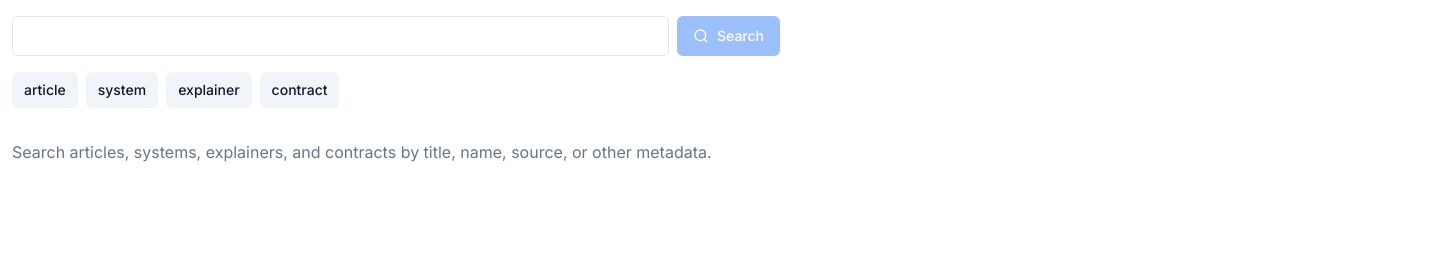
Test: federated search page states › ignores an older response after a filter starts a newer request
Type "radar" into the search field. click: (340, 36)
box: [12,16,669,56]
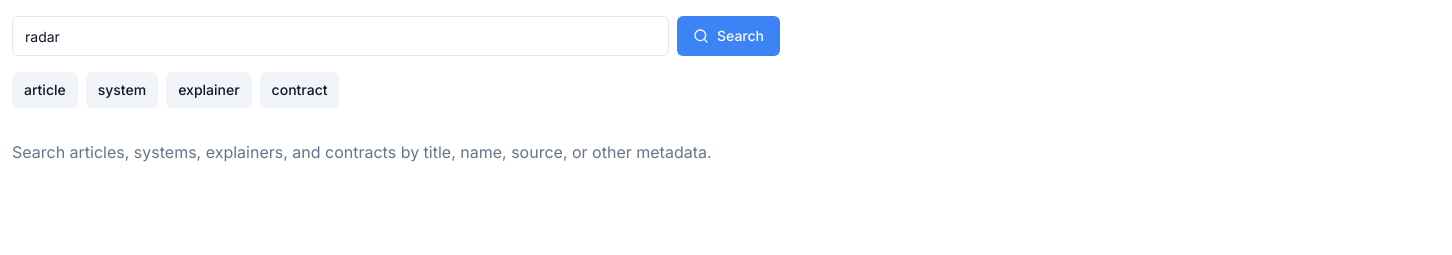
Click the button "Search". click: (728, 36)
box: [677,16,780,56]
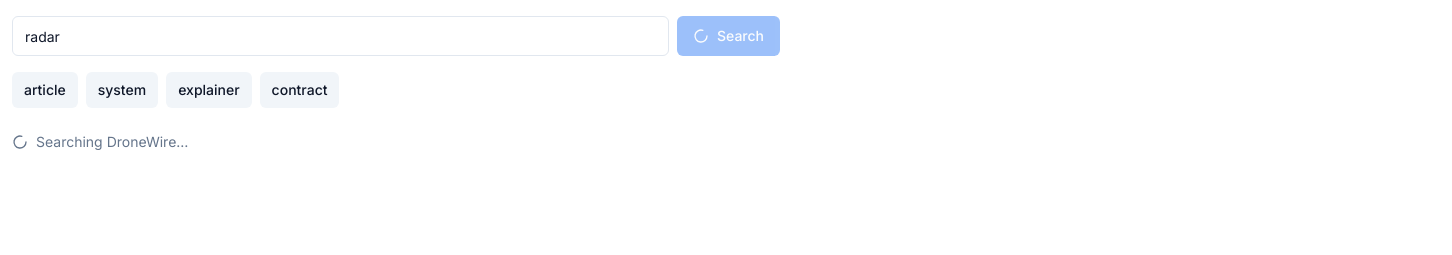
Click the button "contract". click: (300, 90)
box: [260,72,340,108]
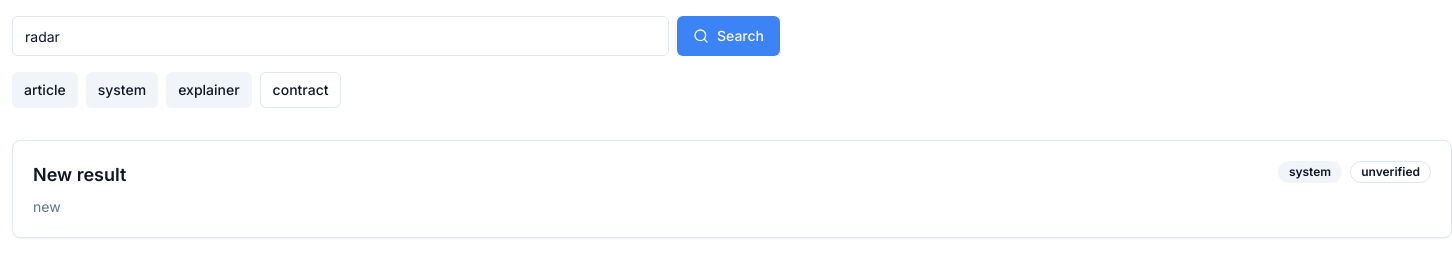
Check: the heading "New result" is shown, box [33,161,126,189]
